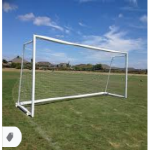goals: (14, 33, 130, 118)
